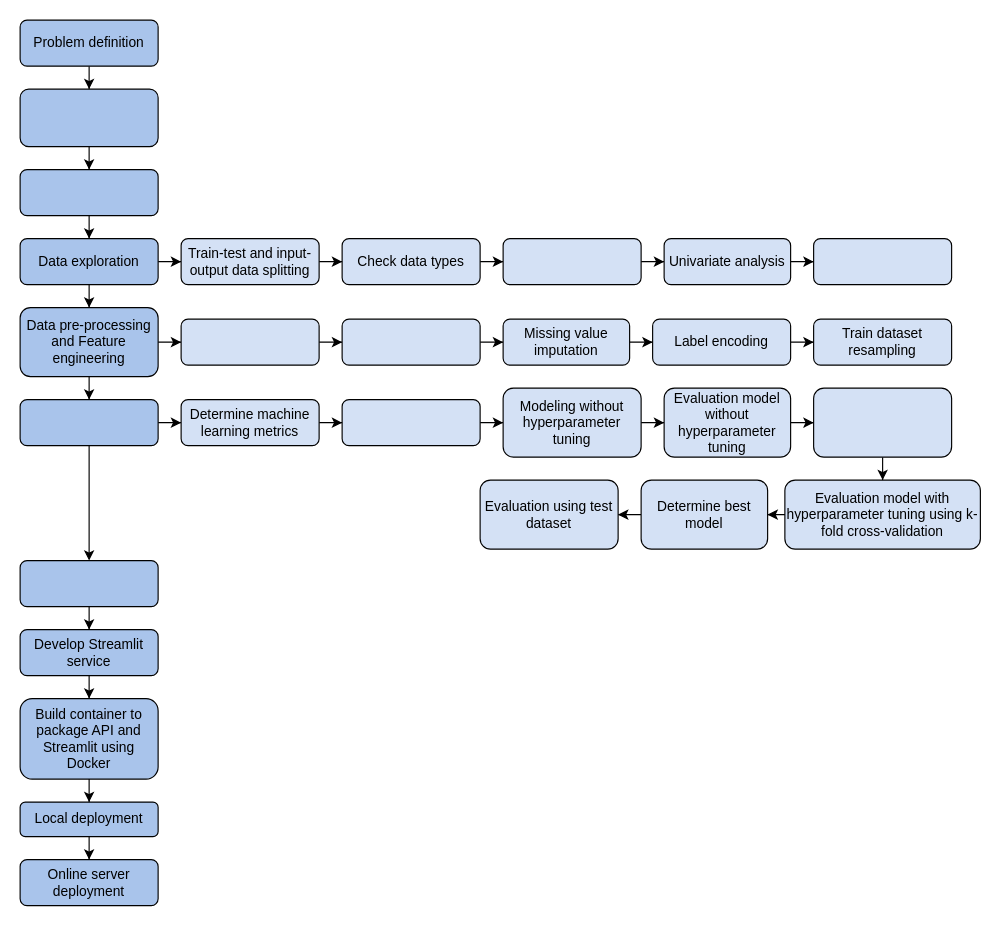
Image size: 1001x926. Some labels were removed from this diagram. Here are the shapes that lost their labels. From the top down, the centre of each, then its label:
At (88,117): "Determine business objectives and metrics".
At (88,192): "Collecting data".
At (571,261): "Check missing value".
At (882,261): "Bivariate analysis".
At (249,341): "Drop unneccesary features".
At (410,341): "Fixing data type".
At (88,422): "Modeling".
At (410,422): "Determine baseline model".
At (882,422): "Modeling with hyperparameter tuning".
At (88,583): "Develop API service".
